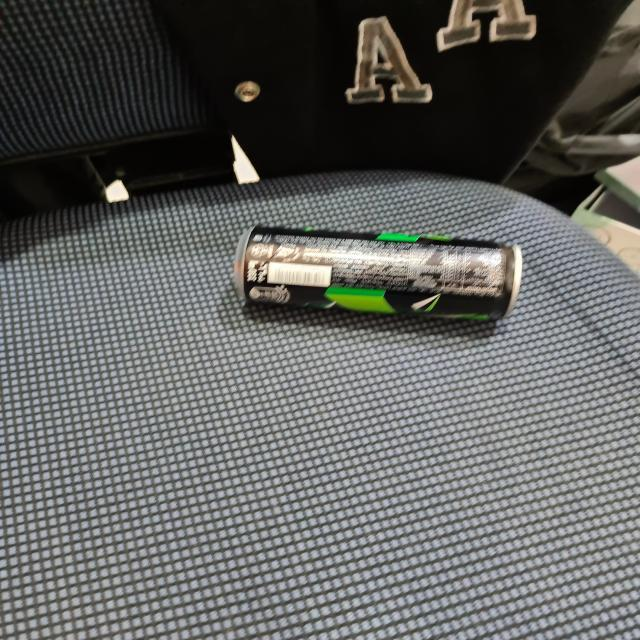can: (230, 222, 528, 330)
